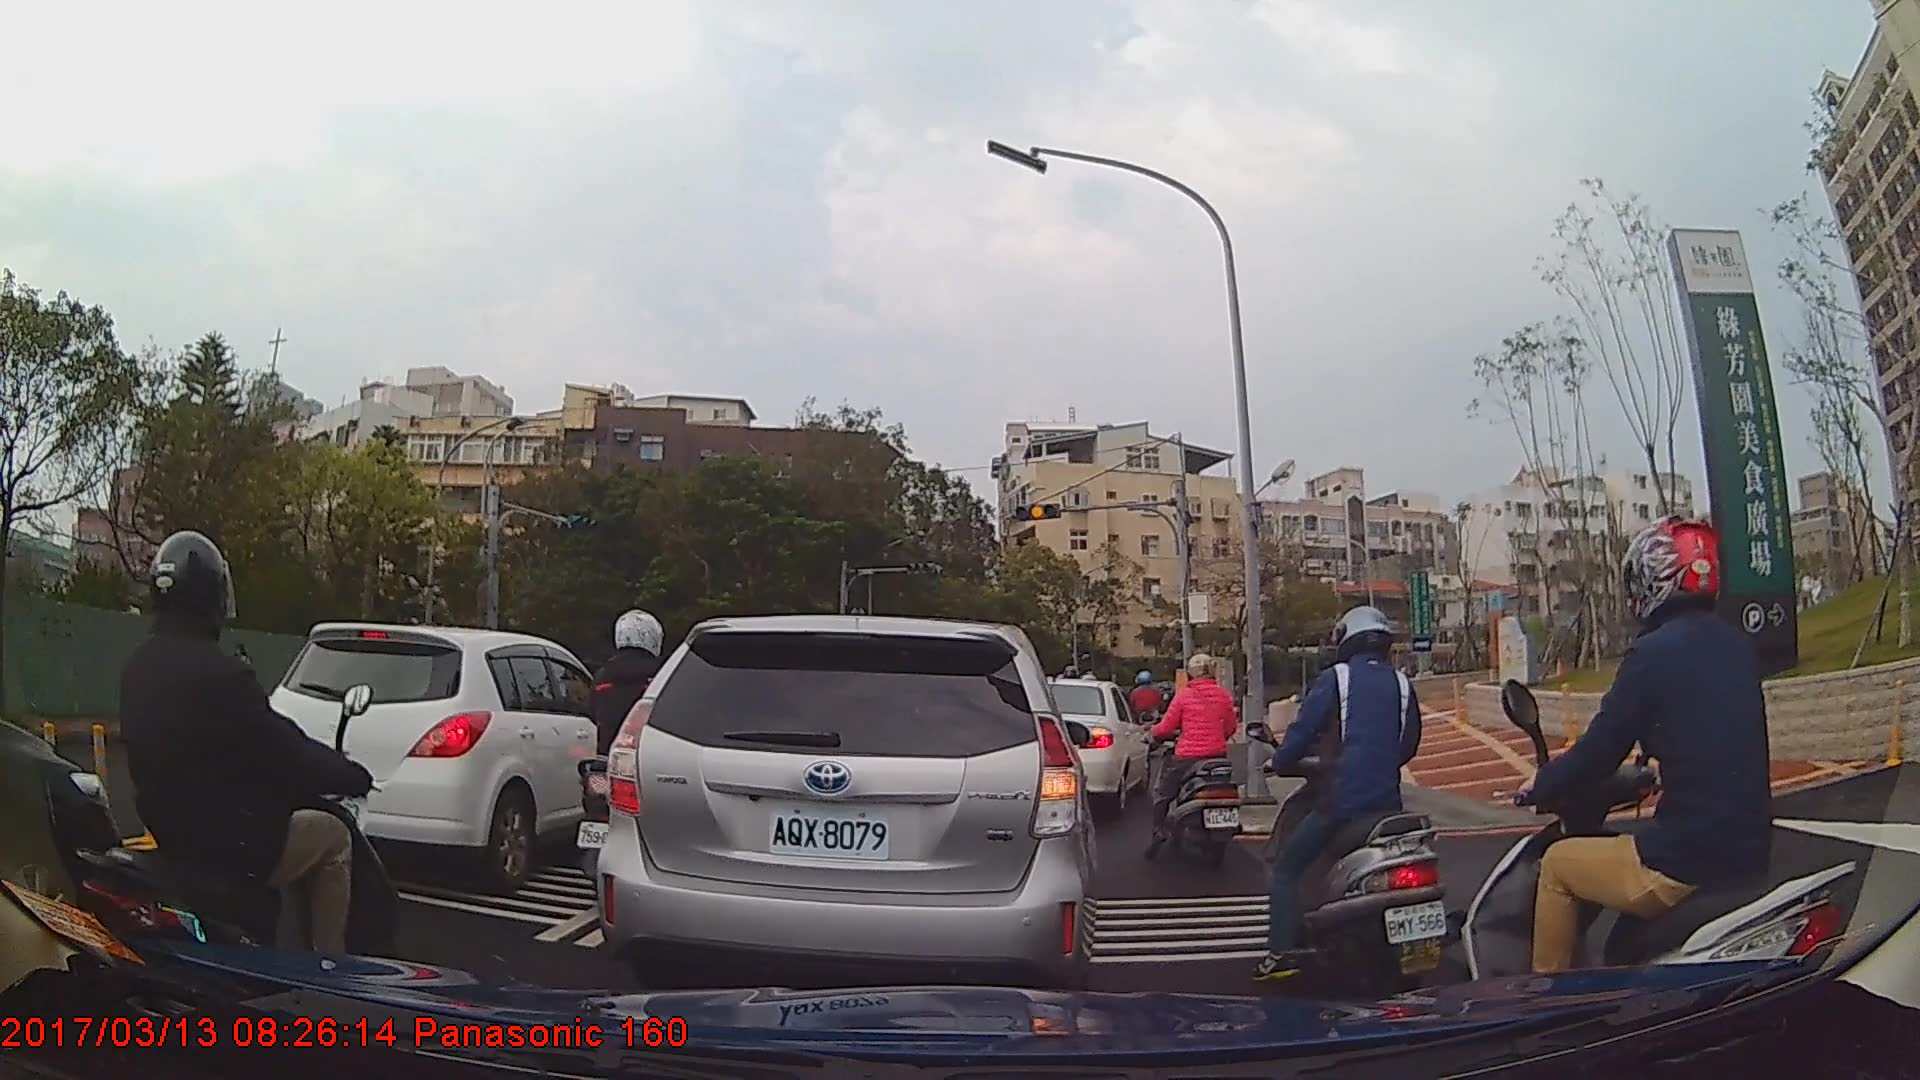rider: (1459, 516, 1865, 1057), (58, 529, 400, 1068), (1247, 606, 1451, 999), (575, 605, 706, 921), (1137, 652, 1245, 865), (1126, 669, 1168, 763)
vehicle: (599, 610, 1098, 989), (262, 621, 643, 885), (1045, 677, 1152, 816)
